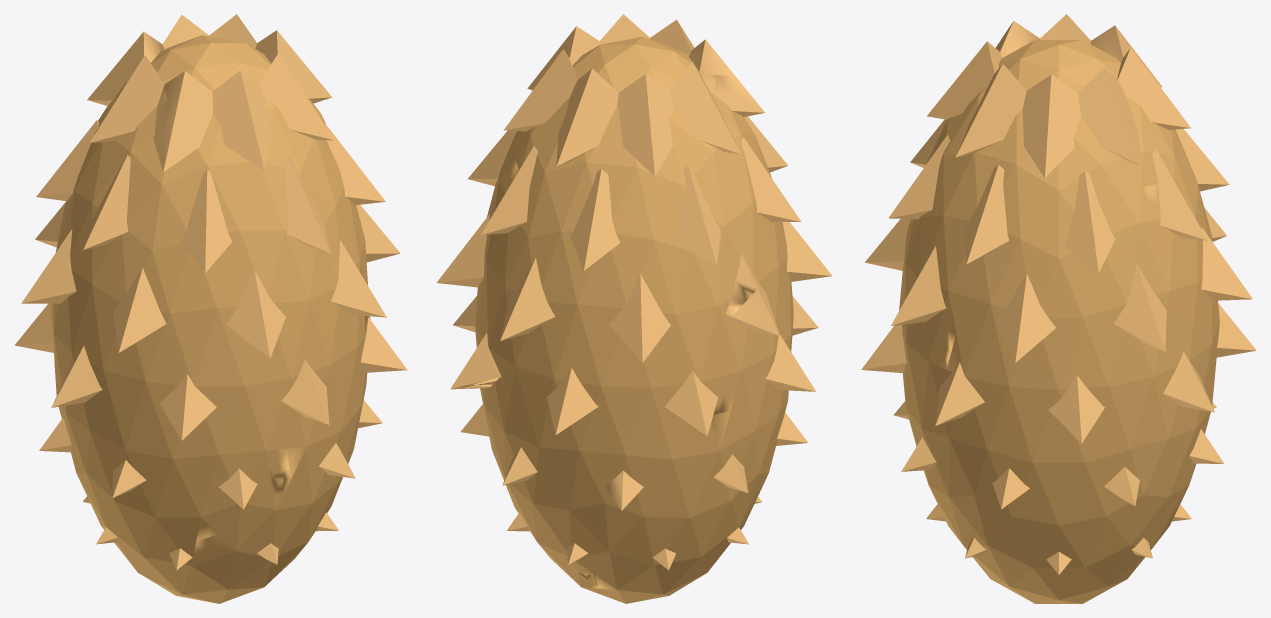
The model's file is xmas_pinecone.glb.
3 renders of one model, left to right at view 1: azimuth 30°, elevation 25°; view 2: azimuth 150°, elevation 25°; view 3: azimuth 270°, elevation 25°, orthographic.
Visible parts, largest first — view 1: Pinecone; view 2: Pinecone; view 3: Pinecone.
Boxes of the visible parts, x1=… form: Pinecone: x1=14, y1=14, x2=407, y2=603; Pinecone: x1=436, y1=14, x2=831, y2=603; Pinecone: x1=861, y1=14, x2=1256, y2=603.
Size of the model in its own units: 1.23 by 1.9 by 1.23.
